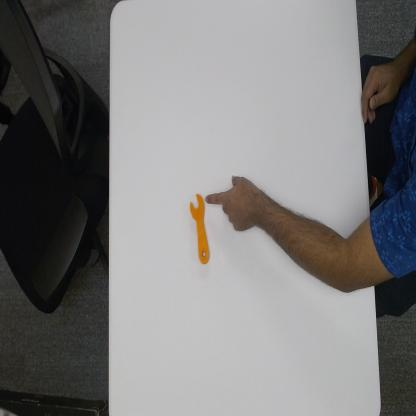Arm: (267, 188, 394, 296)
Hand: (205, 172, 262, 237)
Screwdriver: (186, 188, 211, 266)
